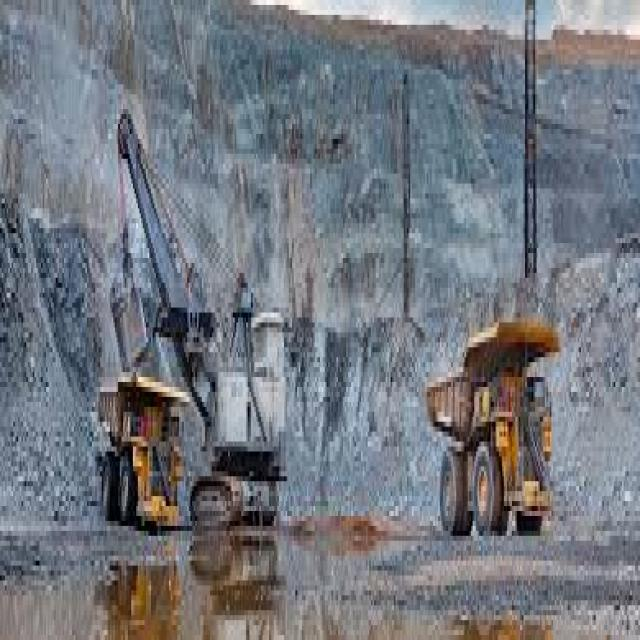dump_truck: (420, 238, 570, 561), (82, 342, 184, 546)
